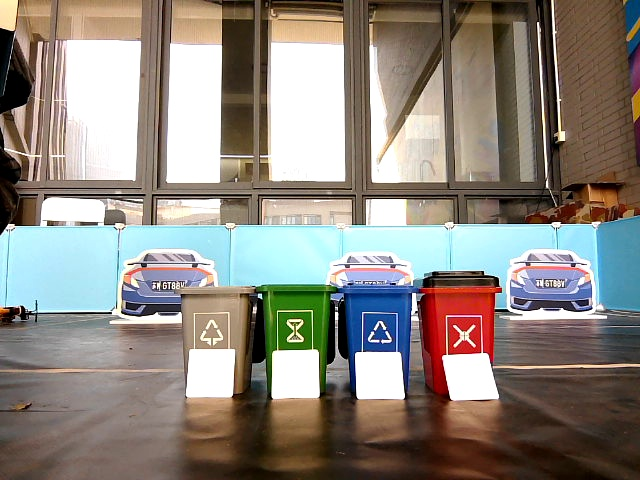blue_open: (346, 288, 408, 349)
green_open: (265, 284, 327, 348)
grey_open: (182, 286, 249, 348)
red_close: (422, 272, 492, 351)
